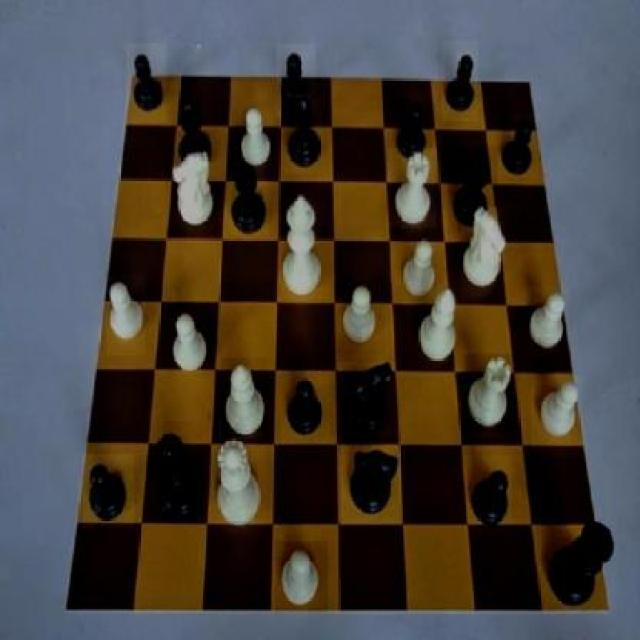bishop: (172, 91, 218, 173), (286, 97, 323, 175)
black-bishop: (544, 520, 618, 614)
black-king: (342, 443, 401, 526), (338, 361, 398, 437)
black-knight: (81, 454, 134, 528), (464, 456, 512, 534), (280, 377, 330, 443), (126, 43, 167, 123), (277, 44, 317, 118), (442, 40, 478, 121), (396, 100, 432, 172), (498, 116, 538, 180)
black-pawn: (149, 420, 203, 523)
black-queen: (448, 146, 498, 234), (229, 158, 269, 234)
black-rook: (410, 288, 464, 374), (222, 358, 268, 446)
white-bishop: (278, 191, 324, 304)
white-king: (165, 151, 218, 237), (462, 208, 506, 298)
white-knight: (531, 375, 583, 458), (330, 280, 384, 355), (276, 540, 328, 614), (523, 286, 571, 364), (168, 300, 210, 377), (240, 94, 277, 181), (106, 276, 146, 356), (400, 237, 438, 308)
white-pawn: (209, 432, 266, 537)
white-queen: (464, 354, 518, 431), (389, 149, 437, 229)
